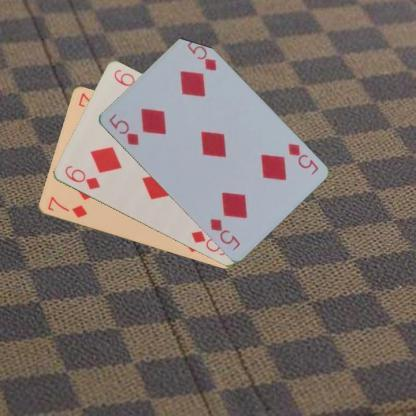5d: (284, 140, 320, 176), (106, 111, 140, 147)
6d: (62, 162, 102, 192)
7d: (44, 194, 88, 220)
